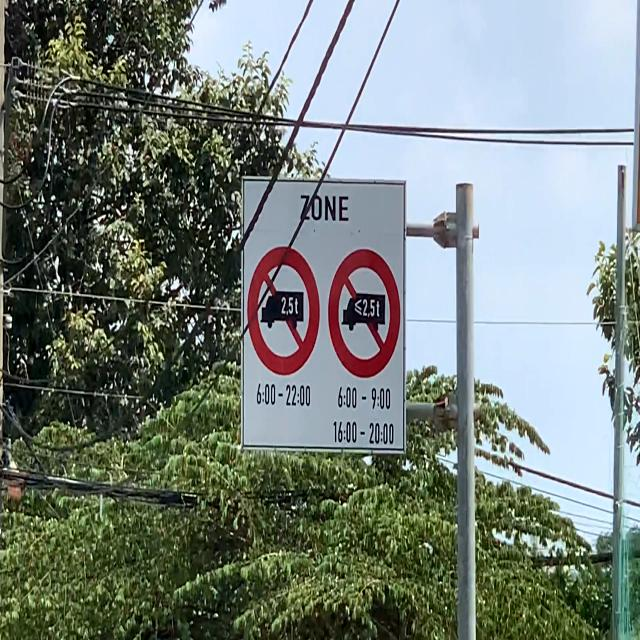P.106b: (328, 240, 401, 382), (248, 244, 320, 380)
